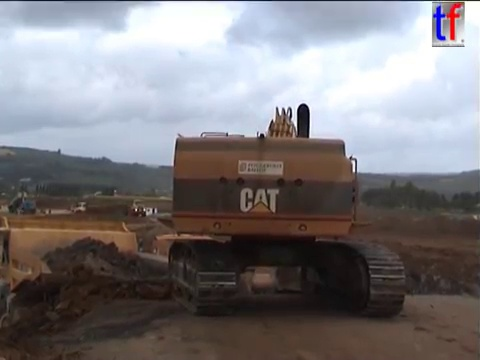excavator: (165, 100, 411, 320)
truck: (1, 214, 192, 360), (149, 230, 244, 304), (117, 197, 149, 218), (71, 200, 106, 215)
